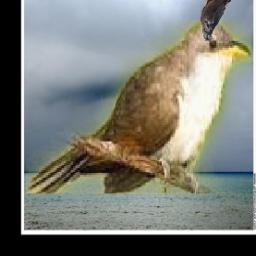Crow: (201, 0, 232, 42)
Cuckoo: (26, 20, 251, 193)
